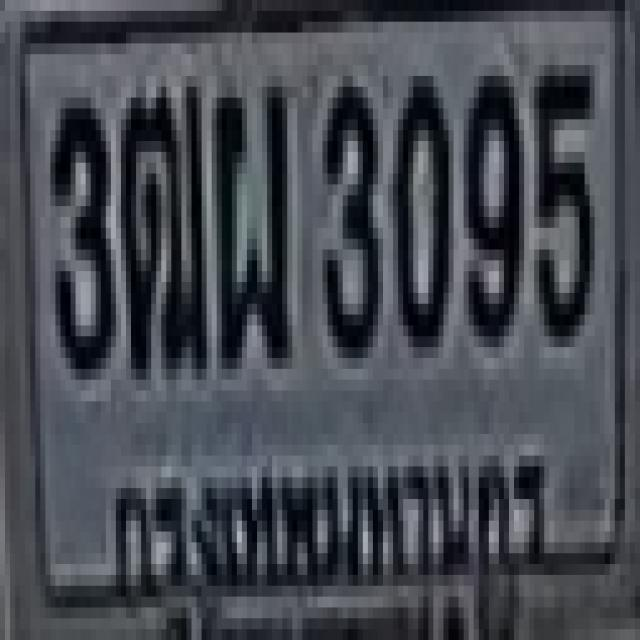-: (119, 76, 204, 369), (212, 76, 287, 358)
0: (391, 65, 446, 336)
3: (48, 87, 108, 369), (317, 76, 378, 347)
5: (529, 55, 590, 336)
9: (464, 65, 519, 336)
BKK: (97, 411, 558, 617)
